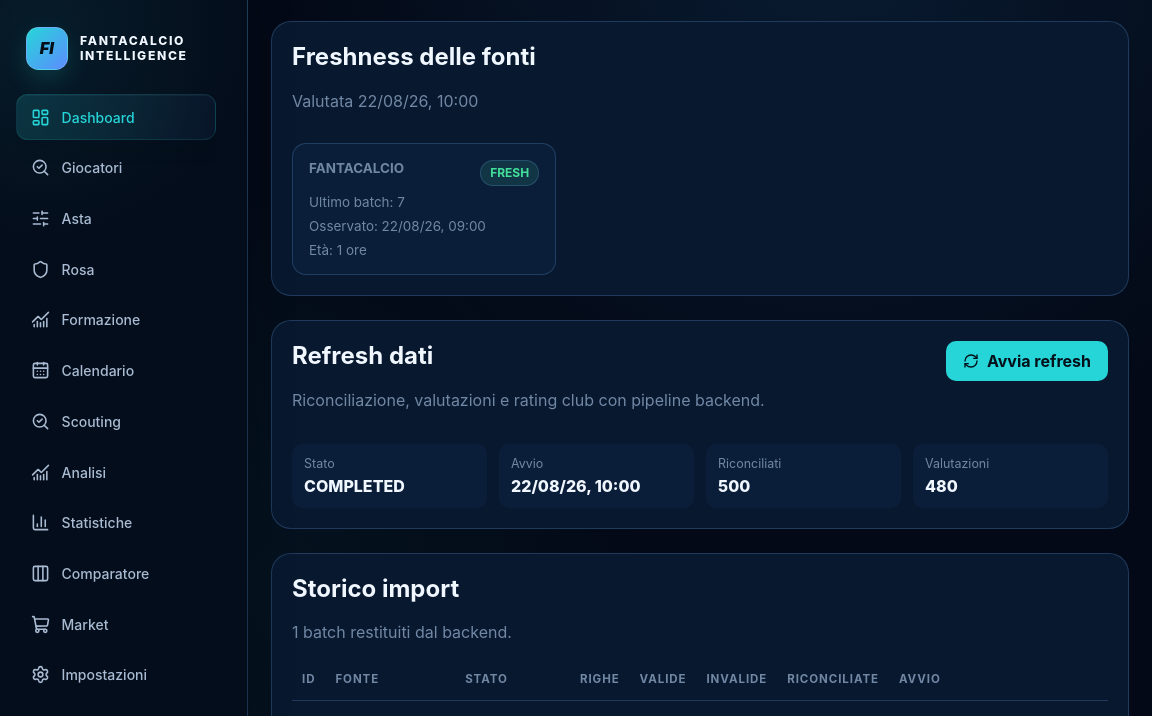
Test: F14 admin page › conferma e completa il refresh impedendo il doppio invio
The width and height of the screenshot is (1152, 716).
(page scrolled)
Click the button "Avvia refresh". click: x=1027, y=361
box: [946,341,1108,381]
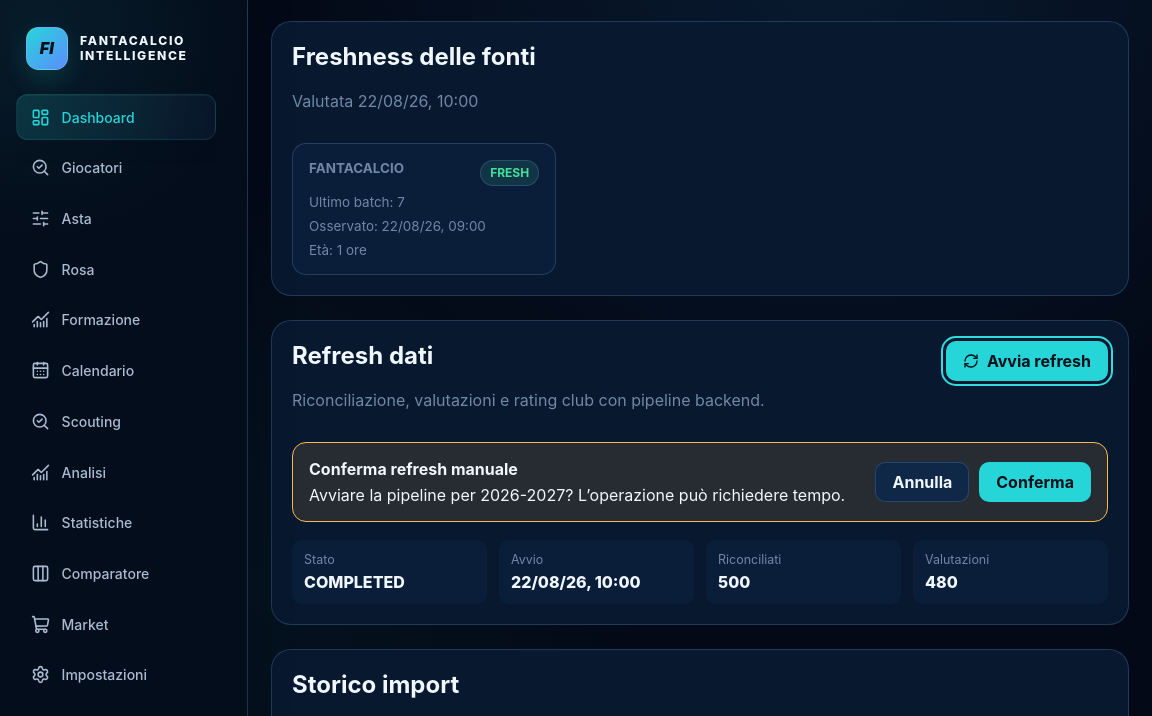
Click the button "Conferma". click: x=1035, y=482
box: [979,462,1091,502]
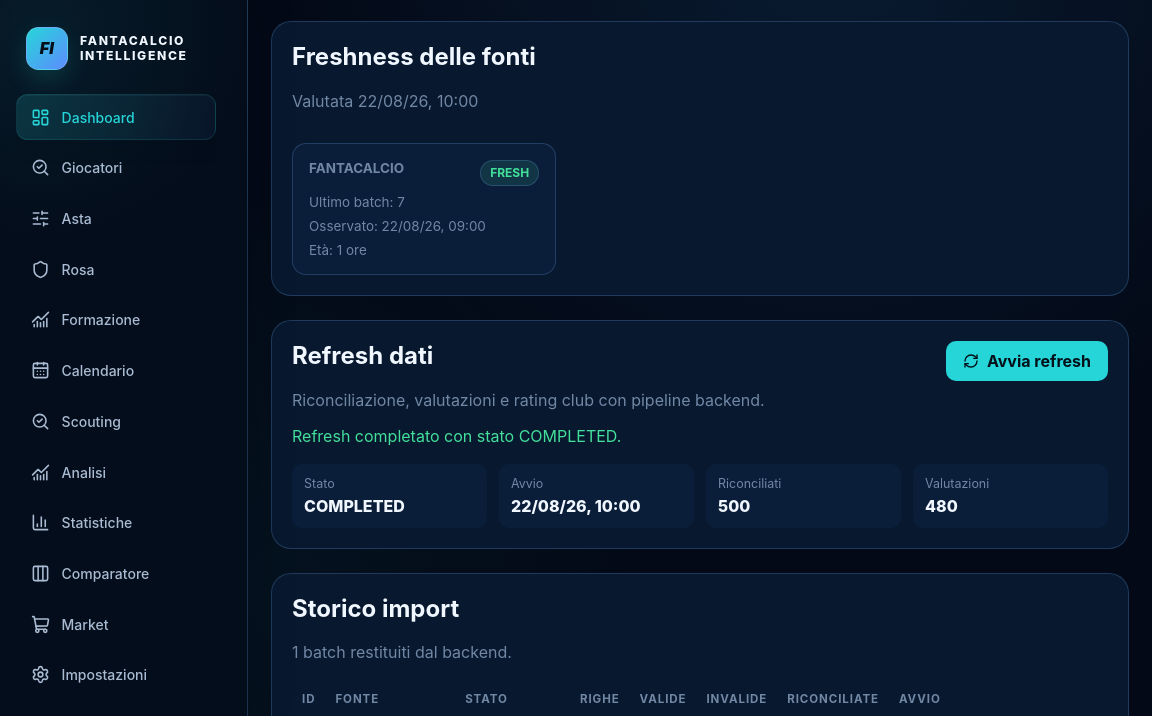
Check: the text "Refresh completato con stato COMPLETED." is shown, box [292,426,621,446]
